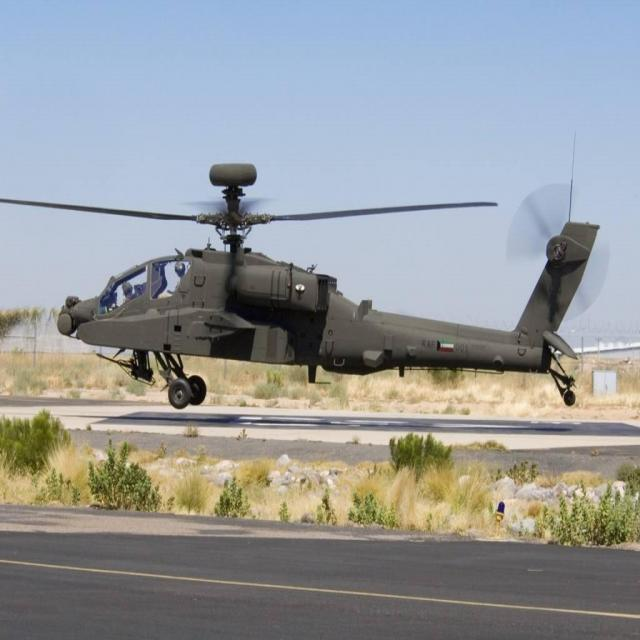MIL_HELO: (0, 144, 631, 422)
